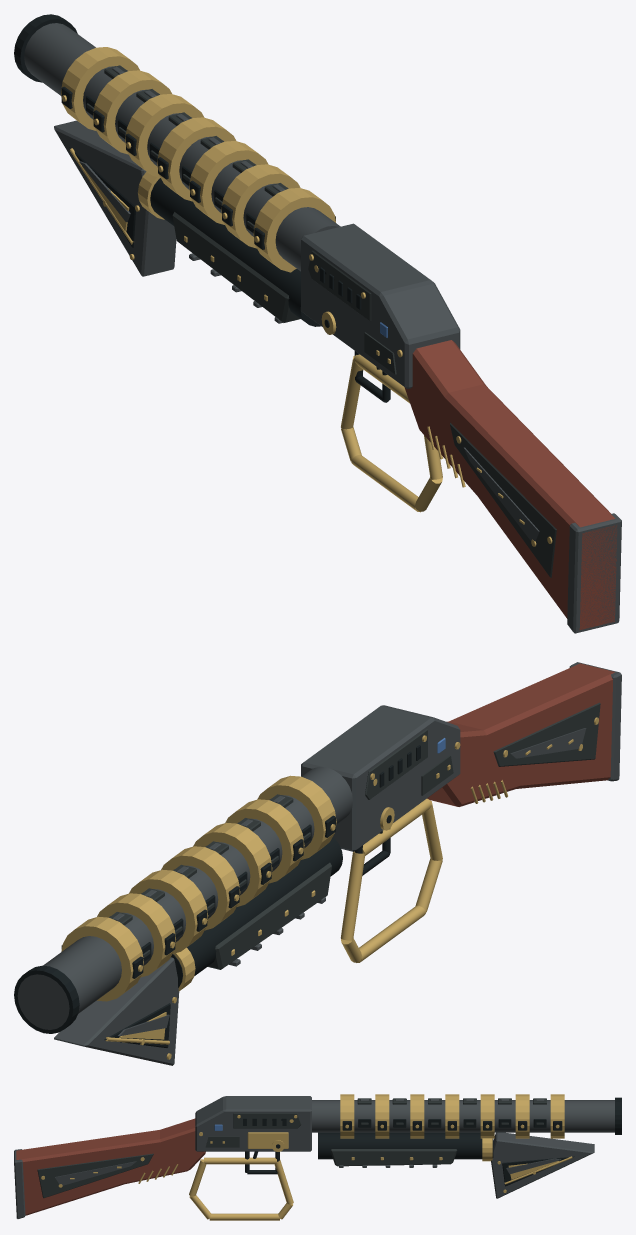
The model's file is slug_2.glb.
3 renders of one model, top to bottom at view 1: azimuth 30°, elevation 25°; view 2: azimuth 150°, elevation 25°; view 3: azimuth 270°, elevation 25°, orthographic. The views are drawn at different scales.
Parts seen in each view (by area): view 1: Weapon_slug_v1; view 2: Weapon_slug_v1; view 3: Weapon_slug_v1.
Boxes of the visible parts, x1=… form: Weapon_slug_v1: x1=14, y1=14, x2=621, y2=633; Weapon_slug_v1: x1=14, y1=662, x2=621, y2=1065; Weapon_slug_v1: x1=14, y1=1094, x2=621, y2=1220.
Size of the model in its own units: 0.084 by 0.234 by 1.04.
